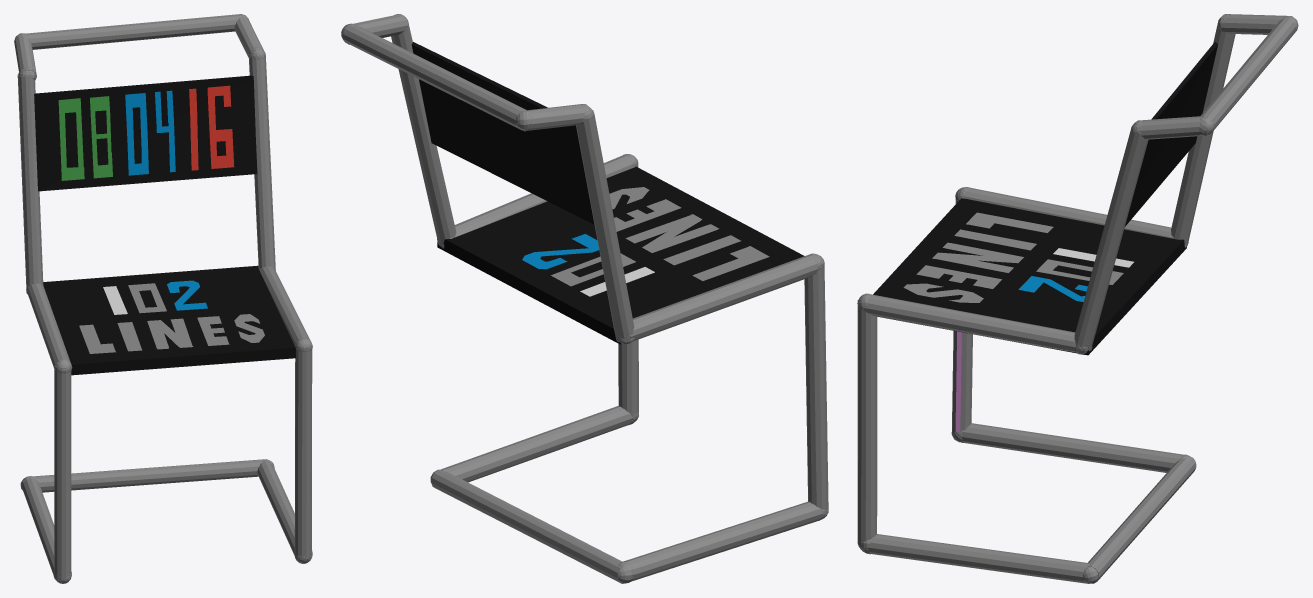
3 renders of one model, left to right at view 1: azimuth 30°, elevation 25°; view 2: azimuth 150°, elevation 25°; view 3: azimuth 270°, elevation 25°, orthographic. The views are drawn at different scales.
Parts seen in each view (by area): view 1: node_MeshObject1768678848-PolyPaper23, node_MeshObject67311872-PolyPaper23, node_MeshObject-2069675456-PolyPaper22; view 2: node_MeshObject1768678848-PolyPaper23, node_MeshObject67311872-PolyPaper23, node_MeshObject-2069675456-PolyPaper22; view 3: node_MeshObject1768678848-PolyPaper23, node_MeshObject-2069675456-PolyPaper22, node_MeshObject67311872-PolyPaper23.
Boxes of the visible parts, x1,y1,x2,y2 form: node_MeshObject1768678848-PolyPaper23: (17,14,312,580); node_MeshObject67311872-PolyPaper23: (34,75,257,191); node_MeshObject-2069675456-PolyPaper22: (14,14,312,583); node_MeshObject1768678848-PolyPaper23: (343,14,828,583); node_MeshObject67311872-PolyPaper23: (411,42,594,224); node_MeshObject-2069675456-PolyPaper22: (341,14,828,583); node_MeshObject1768678848-PolyPaper23: (857,14,1296,583); node_MeshObject-2069675456-PolyPaper22: (857,14,1298,583); node_MeshObject67311872-PolyPaper23: (1125,42,1217,226).
Size of the model in its own units: 0.6008 by 0.8089 by 0.6679.
